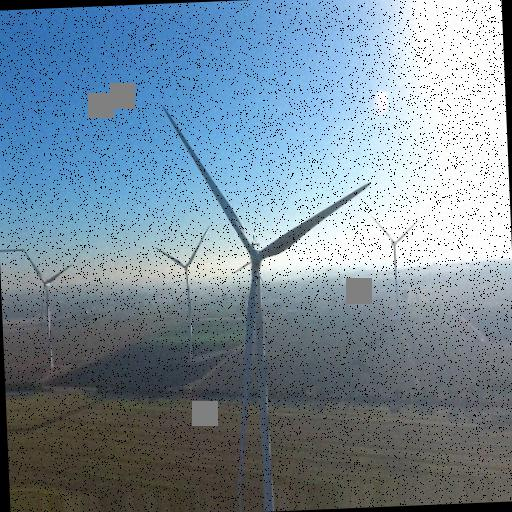wind turbine: (162, 105, 371, 501), (153, 223, 209, 361), (19, 249, 74, 370), (372, 214, 417, 304)
